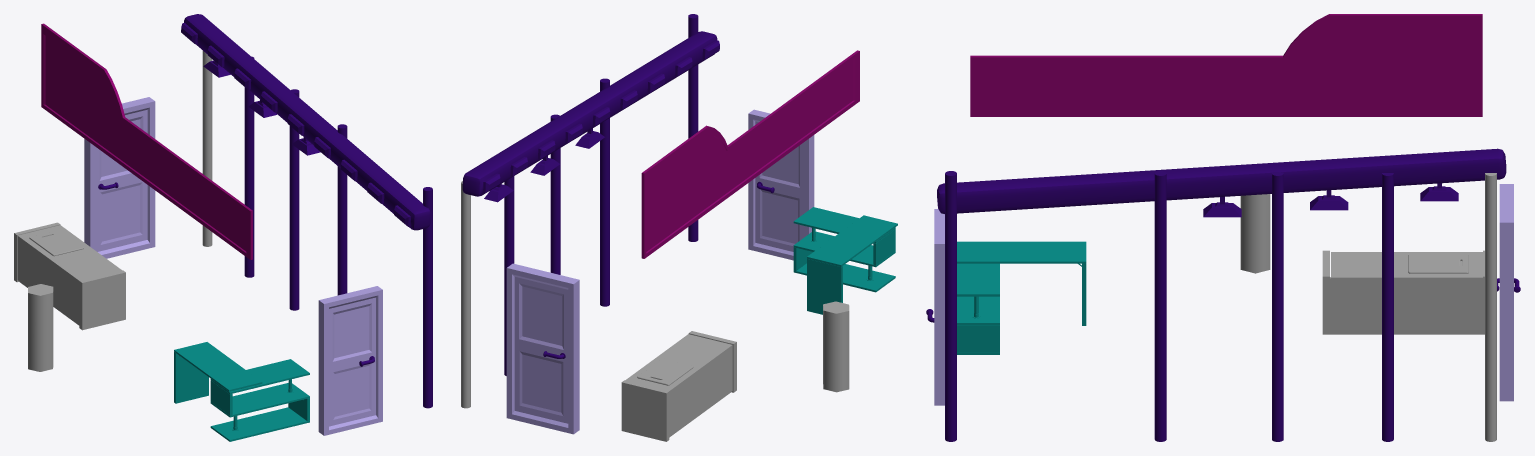
Rendered from Lobby_Props.fbx.
The picture shows the model from 3 angles, left to right: view 1: azimuth 30°, elevation 25°; view 2: azimuth 150°, elevation 25°; view 3: azimuth 270°, elevation 25°; orthographic projection. The views are drawn at different scales.
Visible parts, largest first — view 1: pCube10 (×2), pCube15, pCube11, Desk:desk_base4, pCube8, pCube9, Cylinder2:Cylinder, pCylinder9, pCylinder6, pCylinder5, pCylinder8, pCylinder7 (+1 smaller); view 2: pCube10 (×2), pCube15, pCube11, Desk:desk_base4, pCube8, pCube9, Cylinder2:Cylinder, pCylinder8, pCylinder7, pCylinder6, pCylinder5, pCylinder9 (+1 smaller); view 3: pCube15, pCube11, pCube9, Desk:desk_base4, pCube10 (×2), pCylinder7, pCylinder9, pCylinder6, pCylinder5, pCylinder8, pCube8, Cylinder2:Cylinder (+3 smaller).
Part boxes in pixels (x1=…): pCube10 (×2): x1=84, y1=97, x2=382, y2=435; pCube15: x1=41, y1=23, x2=252, y2=259; pCube11: x1=181, y1=14, x2=430, y2=230; Desk:desk_base4: x1=174, y1=342, x2=309, y2=441; pCube8: x1=17, y1=225, x2=121, y2=324; pCube9: x1=14, y1=222, x2=125, y2=330; Cylinder2:Cylinder: x1=28, y1=284, x2=53, y2=371; pCylinder9: x1=423, y1=187, x2=432, y2=408; pCylinder6: x1=289, y1=89, x2=299, y2=310; pCylinder5: x1=244, y1=56, x2=254, y2=277; pCylinder8: x1=202, y1=50, x2=212, y2=246; pCylinder7: x1=337, y1=124, x2=347, y2=295; pCube10 (×2): x1=506, y1=109, x2=814, y2=434; pCube15: x1=641, y1=50, x2=859, y2=258; pCube11: x1=462, y1=31, x2=719, y2=196; Desk:desk_base4: x1=793, y1=207, x2=897, y2=314; pCube8: x1=625, y1=334, x2=732, y2=436; pCube9: x1=621, y1=331, x2=736, y2=441; Cylinder2:Cylinder: x1=823, y1=301, x2=849, y2=392; pCylinder8: x1=461, y1=181, x2=470, y2=408; pCylinder7: x1=600, y1=78, x2=609, y2=306; pCylinder6: x1=550, y1=114, x2=560, y2=274; pCylinder5: x1=504, y1=176, x2=514, y2=375; pCylinder9: x1=688, y1=14, x2=698, y2=241; pCube15: x1=970, y1=14, x2=1482, y2=116; pCube11: x1=937, y1=148, x2=1506, y2=213; pCube9: x1=1322, y1=250, x2=1484, y2=334; Desk:desk_base4: x1=957, y1=241, x2=1086, y2=354; pCube10 (×2): x1=934, y1=184, x2=1513, y2=405; pCylinder7: x1=1154, y1=171, x2=1166, y2=441; pCylinder9: x1=945, y1=171, x2=956, y2=441; pCylinder6: x1=1272, y1=171, x2=1283, y2=441; pCylinder5: x1=1382, y1=173, x2=1393, y2=441; pCylinder8: x1=1485, y1=173, x2=1496, y2=441; pCube8: x1=1331, y1=252, x2=1482, y2=278; Cylinder2:Cylinder: x1=1240, y1=194, x2=1270, y2=273.
Size of the model in its own units: 14.53 by 13.12 by 21.8.
